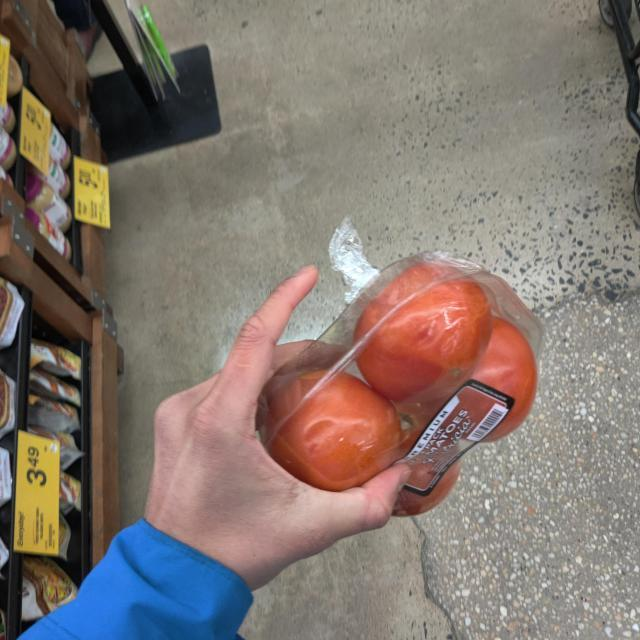tomato: (258, 262, 545, 518)
